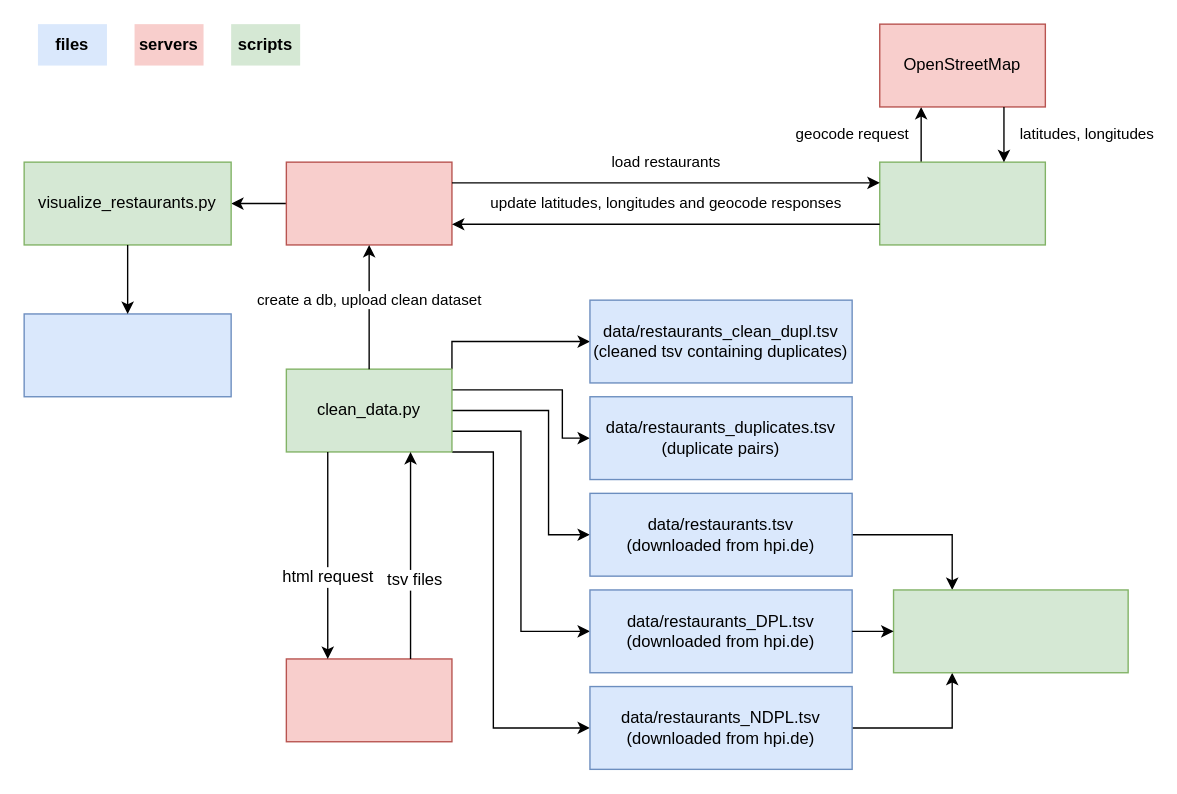
Some shapes in this 1177 by 794 pixel diagram are drawn without their labels. Here are the shapes that lost their labels. From the top down, the centre of each, then its label:
At [368,203]: "Atlas MongoDB".
At [961,203]: "get_locations.py".
At [127,355]: "data/restaurants_map.html".
At [1010,631]: "evaluate_gold_standard.py".
At [368,700]: "hpi.de/restaurants".
